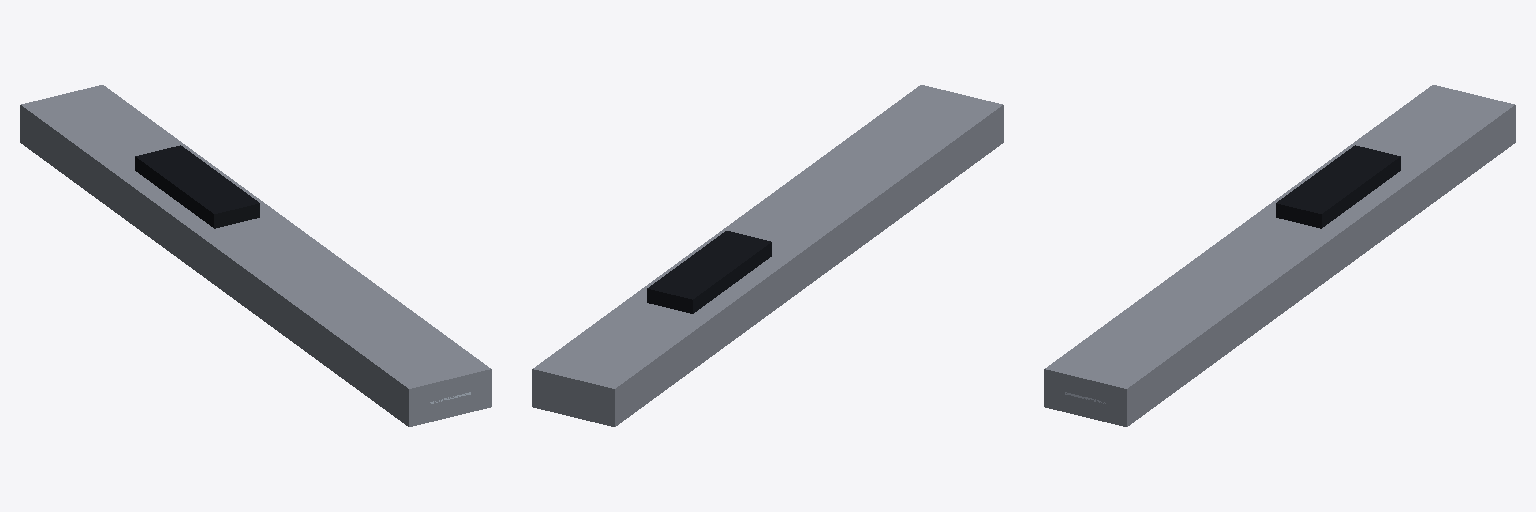
The robot description file, URDF, robot "nt_a300gr_scripted_preview":
<?xml version='1.0' encoding='utf-8'?>
<robot name="nt_a300gr_scripted_preview"><link name="link_0"><inertial><mass value="0.029" /><inertia ixx="5.2376416666666666e-05" iyy="9.376666666666738e-07" izz="5.3004749999999994e-05" ixy="0" ixz="0" iyz="0" /></inertial><visual><geometry><box size="0.018 0.147 0.008" /></geometry><material name="link_0_color"><color rgba=".58 .60 .64 1" /></material></visual><collision><geometry><box size="0.018 0.147 0.008" /></geometry></collision></link><link name="link_1"><inertial><mass value="0.006" /><inertia ixx="4.545e-07" iyy="5.45e-08" izz="5e-07" ixy="0" ixz="0" iyz="0" /></inertial><visual><geometry><box size="0.01 0.03 0.003" /></geometry><material name="link_1_color"><color rgba=".12 .13 .15 1" /></material></visual><collision><geometry><box size="0.01 0.03 0.003" /></geometry></collision><visual><origin xyz="0.0 -0.07554999999999999 -0.0054999999999999945" /><geometry><box size=".009 .040 .0005" /></geometry><material name="visual_only_blade"><color rgba=".75 .79 .84 1" /></material></visual></link><joint name="slider" type="prismatic"><parent link="link_0" /><child link="link_1" /><origin xyz="0.0 0.022049999999999997 0.0054999999999999945" /><axis xyz="0 -1 0" /><limit lower="0" upper="0.05" effort="100" velocity="1" /><dynamics damping=".3" friction=".001" /></joint></robot>

--- Facts derived from the render (not from the file) ---
The picture shows the robot from 3 angles, left to right: view 1: azimuth 30°, elevation 25°; view 2: azimuth 150°, elevation 25°; view 3: azimuth 330°, elevation 25°; orthographic projection.
Model nt_a300gr_scripted_preview with 2 links and 1 joints (1 prismatic), rooted at link_0, posed every joint at zero.
Visible links, largest first — view 1: link_0, link_1; view 2: link_0, link_1; view 3: link_0, link_1.
Boxes of the visible links, bbox=[...] form: link_0: bbox=[20, 85, 491, 426]; link_1: bbox=[135, 145, 470, 403]; link_0: bbox=[532, 85, 1003, 426]; link_1: bbox=[647, 231, 771, 313]; link_0: bbox=[1044, 85, 1515, 426]; link_1: bbox=[1065, 145, 1400, 403].
Size in the robot's own frame: 0.018 by 0.147 by 0.011 metres.
Geometry: primitives only (box / cylinder / sphere), no mesh files.
